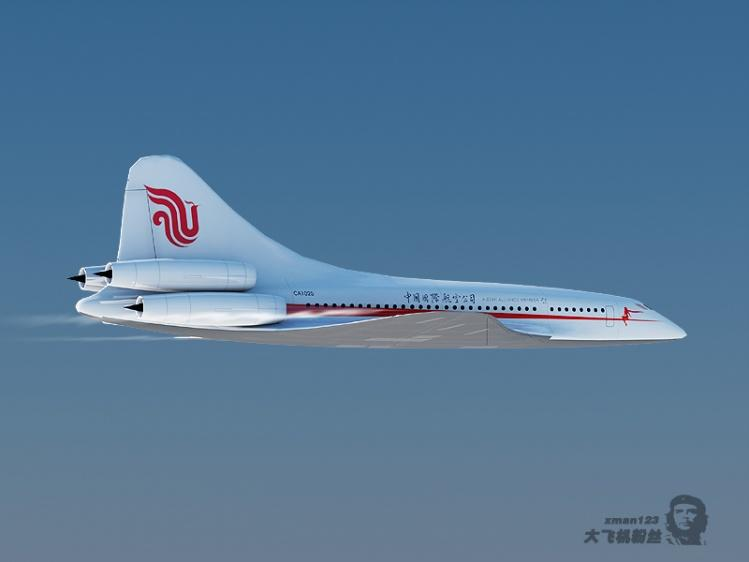airplane: (59, 145, 700, 362)
